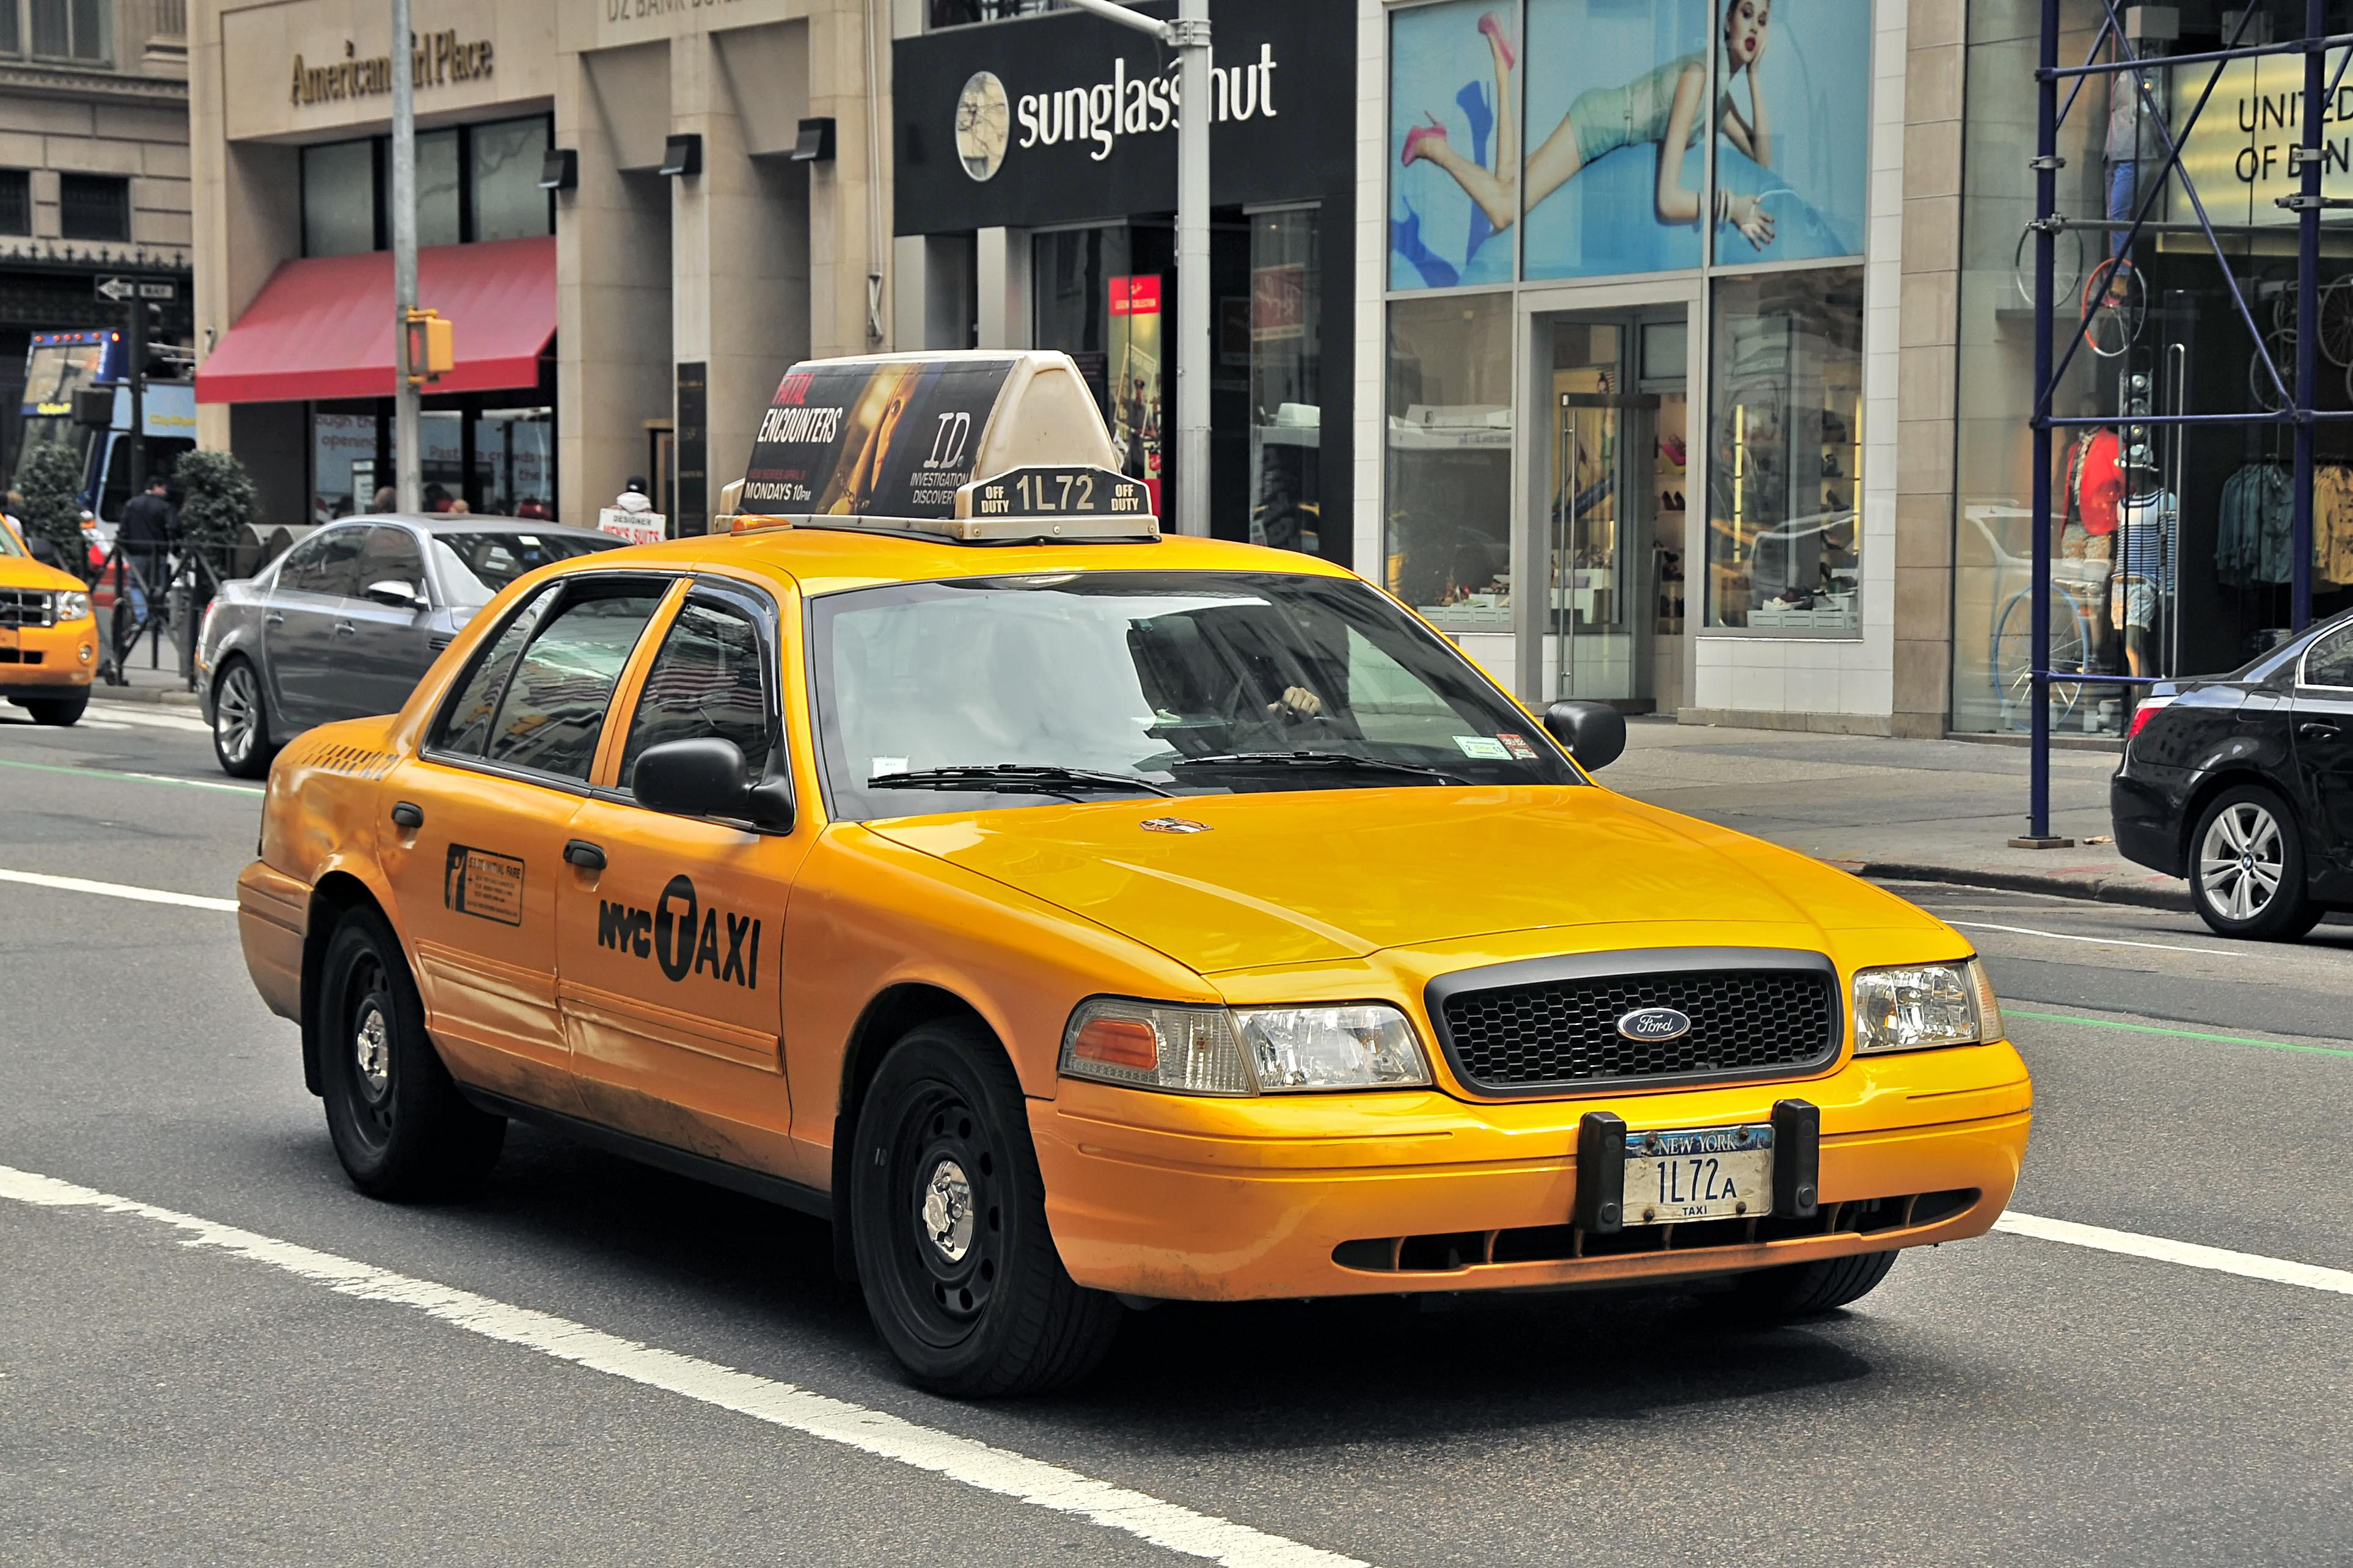taxi: (200, 446, 2082, 1437)
